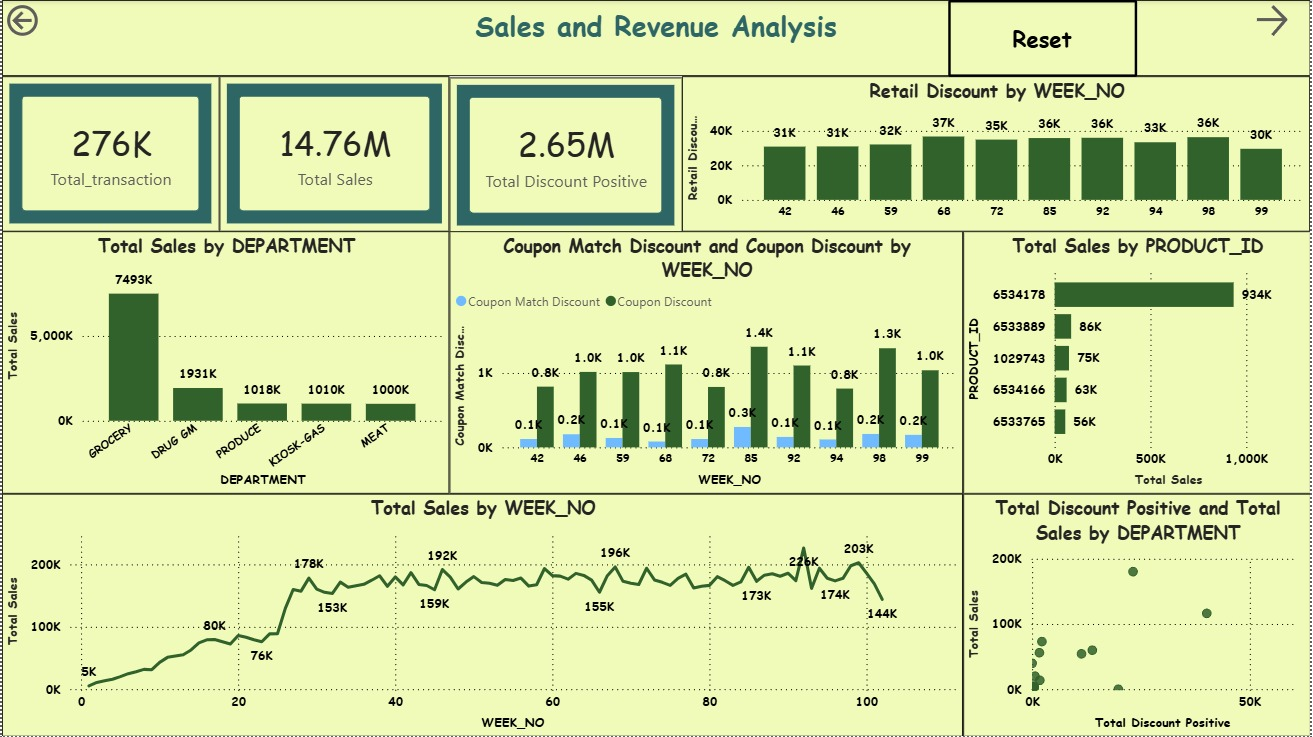

Layout of this report page (visuals, bound fields, positions):
{"tool":"powerbi","page":{"name":"Sales and Revenue Analysis","canvas":[1280,720],"ordinal":9},"visuals":[{"type":"cardVisual","fields":{"Data":["transaction_raw.Total_transaction"]},"box":[0,74.6,212.8,151.6],"z":0},{"type":"cardVisual","fields":{"Data":["KPI.Total Sales"]},"box":[212.8,74.6,225,151.6],"z":1000},{"type":"lineChart","fields":{"Y":["KPI.Total Sales"],"Category":["transaction_raw.WEEK_NO"]},"box":[0,483,940,237.4],"z":2000},{"type":"cardVisual","fields":{"Data":["transaction_raw.Total Discount"]},"box":[437.7,75.5,227.8,152.3],"z":3000},{"type":"textbox","box":[0,0,1280.3,74.6],"z":4000},{"type":"barChart","fields":{"Category":["transaction_raw.PRODUCT_ID"],"Y":["KPI.Total Sales"]},"box":[940.4,226.2,339.9,256.8],"z":5000},{"type":"columnChart","fields":{"Category":["product.DEPARTMENT"],"Y":["KPI.Total Sales"]},"box":[0,226.4,437.7,256.6],"z":6000},{"type":"clusteredColumnChart","fields":{"Category":["transaction_raw.WEEK_NO"],"Y":["transaction_raw.Coupon Match Discount","transaction_raw.Coupon Discount"]},"box":[437.7,226.4,502.2,256.6],"z":7000},{"type":"clusteredColumnChart","fields":{"Category":["transaction_raw.WEEK_NO"],"Y":["transaction_raw.Retail Discount"]},"box":[665.5,74.1,614.8,152.3],"z":8000},{"type":"scatterChart","fields":{"Y":["KPI.Total Sales"],"X":["transaction_raw.Total Discount Positive"],"Category":["product.DEPARTMENT"]},"box":[940,483,340.3,237.4],"z":9000},{"type":"actionButton","box":[0,0,100,40],"z":10000},{"type":"actionButton","box":[1221.6,0,58.7,40.4],"z":11000},{"type":"actionButton","box":[925.2,0,185,75.1],"z":12000}]}

Visuals, with their boxes in screenshot pixels (x1, y1, x2, y2), scaled from the page's 1280x720 canvas onto the 1313x737 screenshot:
cardVisual - transaction_raw.Total_transaction: bbox=(0, 76, 218, 232)
cardVisual - KPI.Total Sales: bbox=(218, 76, 449, 232)
lineChart - KPI.Total Sales x transaction_raw.WEEK_NO: bbox=(0, 494, 964, 736)
cardVisual - transaction_raw.Total Discount: bbox=(449, 77, 683, 233)
textbox: bbox=(0, 0, 1312, 76)
barChart - transaction_raw.PRODUCT_ID x KPI.Total Sales: bbox=(965, 232, 1312, 494)
columnChart - product.DEPARTMENT x KPI.Total Sales: bbox=(0, 232, 449, 494)
clusteredColumnChart - transaction_raw.WEEK_NO x transaction_raw.Coupon Match Discount: bbox=(449, 232, 964, 494)
clusteredColumnChart - transaction_raw.WEEK_NO x transaction_raw.Retail Discount: bbox=(683, 76, 1312, 232)
scatterChart - KPI.Total Sales x transaction_raw.Total Discount Positive: bbox=(964, 494, 1312, 736)
actionButton: bbox=(0, 0, 103, 41)
actionButton: bbox=(1253, 0, 1312, 41)
actionButton: bbox=(949, 0, 1139, 77)
